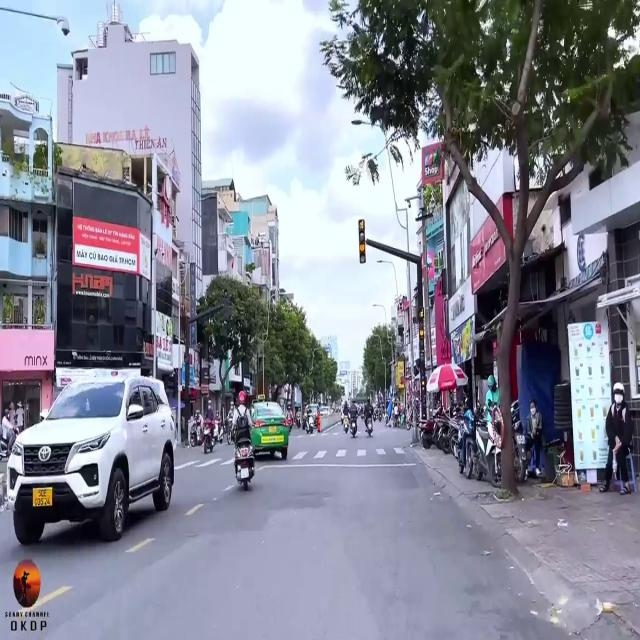bien_vang: (32, 485, 55, 509)
